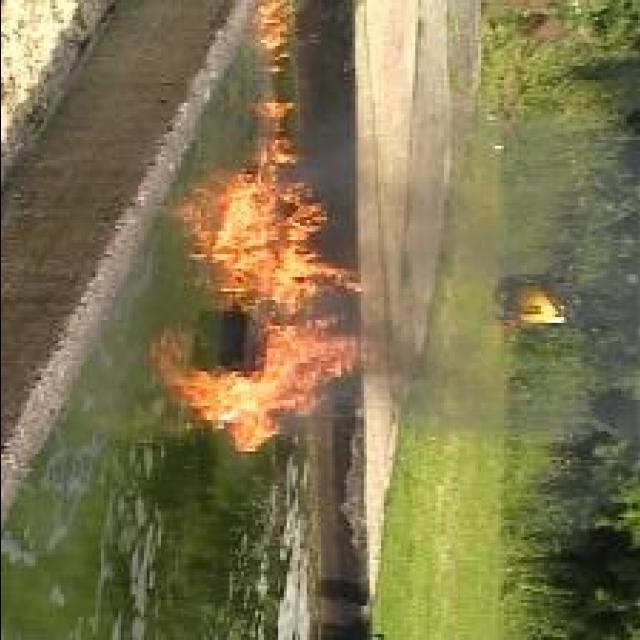Fire: (144, 100, 372, 457), (254, 0, 297, 77)
